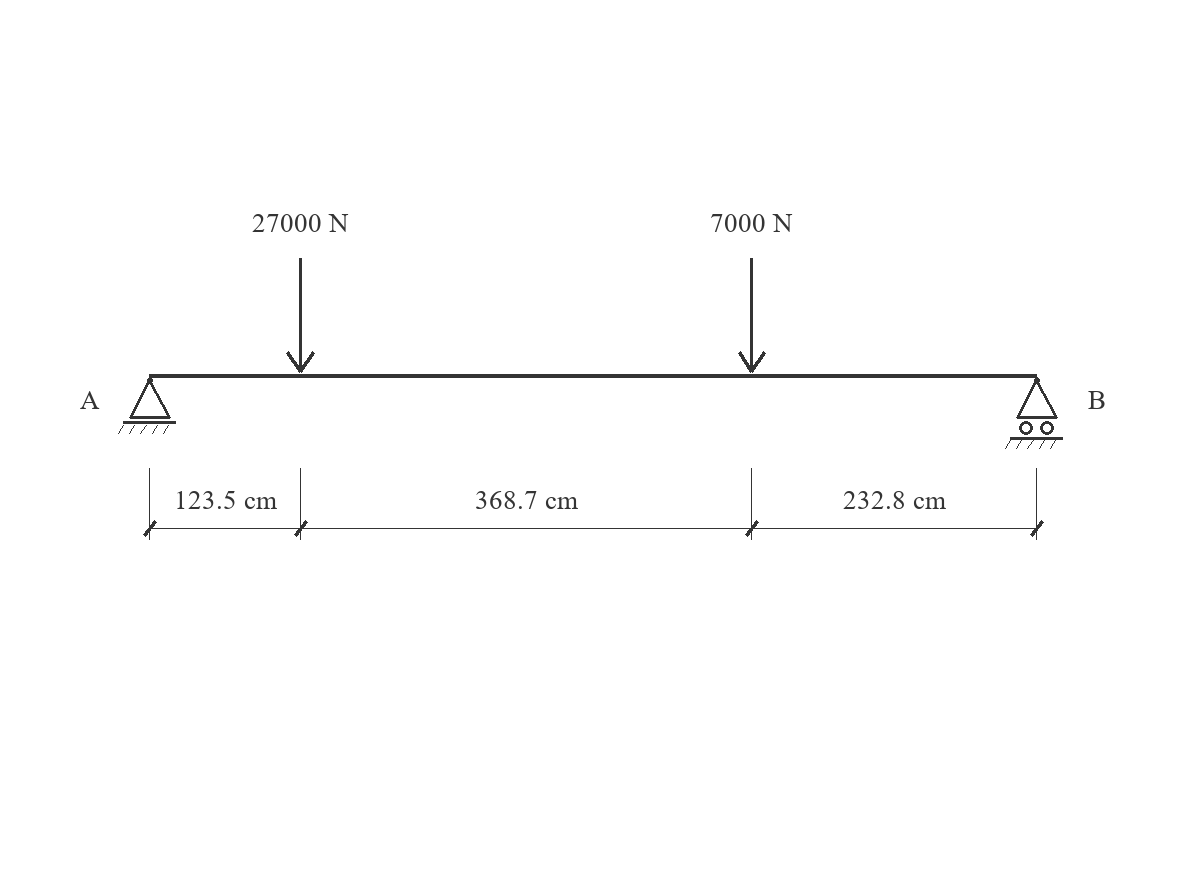pin_support: (118, 377, 176, 434)
point_load: (286, 258, 315, 373), (738, 258, 766, 373)
roller_support: (1005, 377, 1063, 449)
